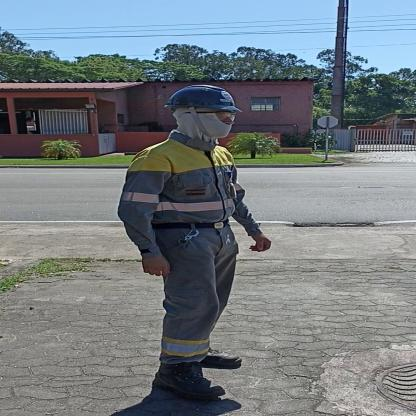Balaclava: (170, 106, 237, 140)
Capacete: (168, 81, 238, 109)
